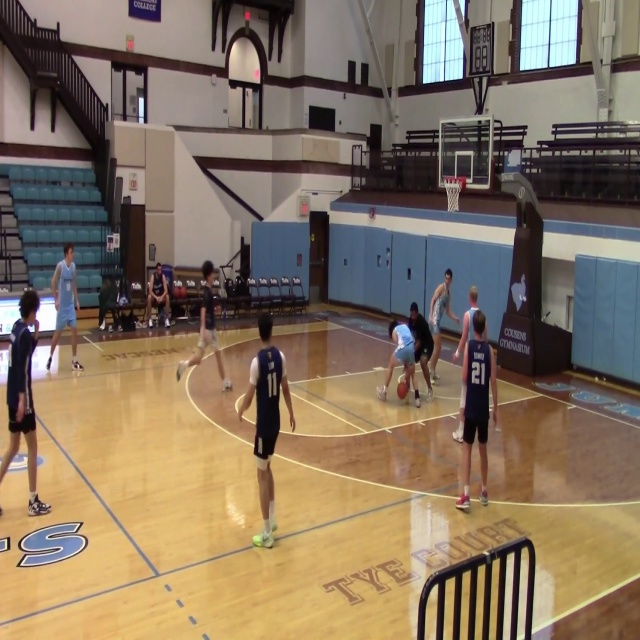Basketball: (397, 375, 409, 399)
